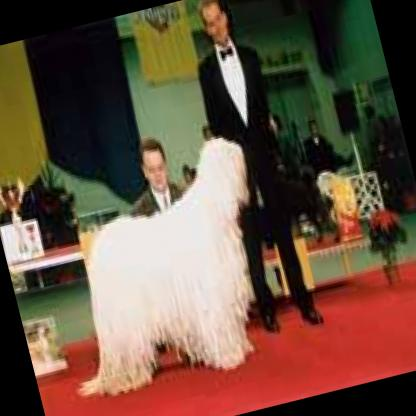komondor: (24, 129, 292, 407)
